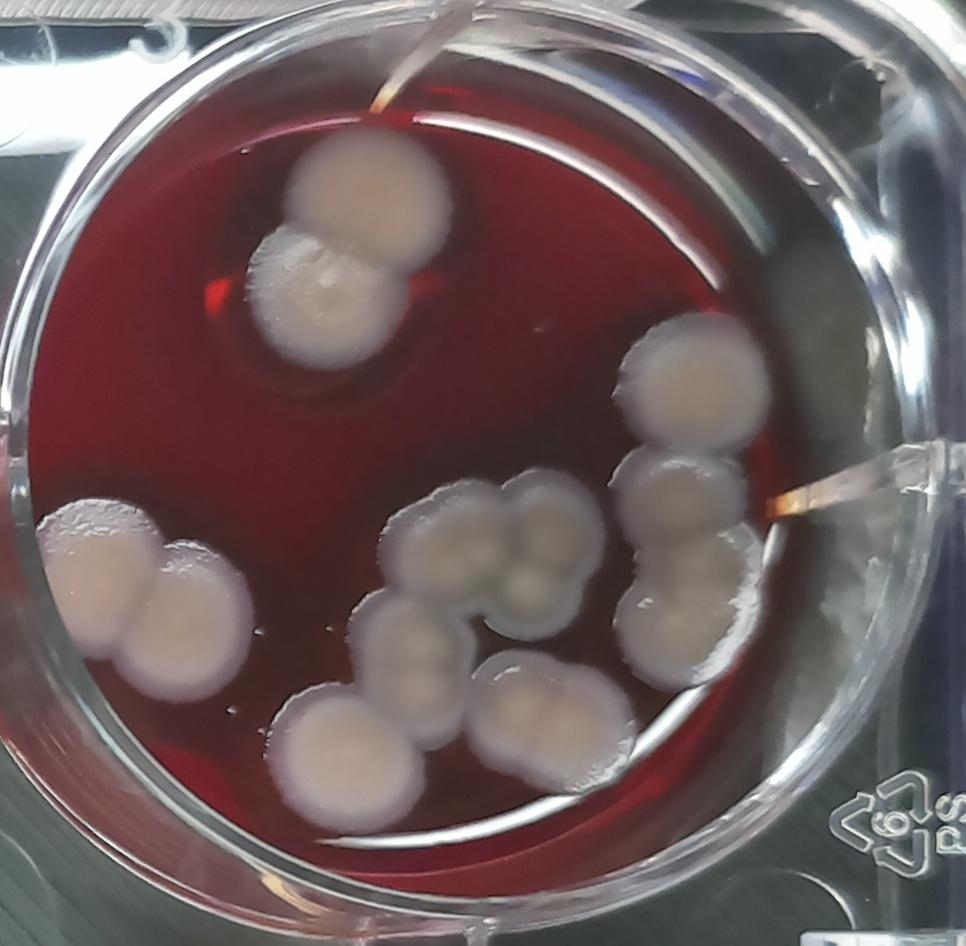bcereus: (278, 116, 482, 300), (214, 222, 429, 387), (600, 292, 783, 461), (253, 672, 434, 841), (611, 515, 768, 703), (115, 526, 270, 716), (16, 486, 169, 675), (455, 642, 640, 798), (332, 583, 485, 747), (364, 471, 510, 613), (614, 431, 762, 559), (497, 465, 620, 577), (472, 557, 597, 642)
